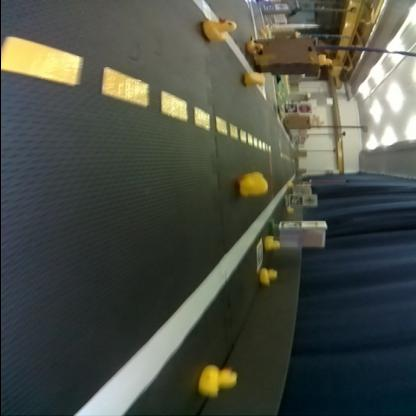Duckie: (198, 364, 238, 396), (203, 18, 236, 40), (238, 172, 268, 196), (260, 268, 278, 284), (244, 72, 264, 84), (266, 234, 280, 250), (246, 41, 262, 53), (319, 53, 331, 65), (286, 206, 294, 212)
Intersection sign: (305, 220, 324, 226), (306, 196, 315, 204)
QR code: (255, 238, 263, 270), (280, 221, 302, 228), (284, 102, 298, 113), (289, 194, 304, 204)
Stop sign: (298, 104, 310, 113)
